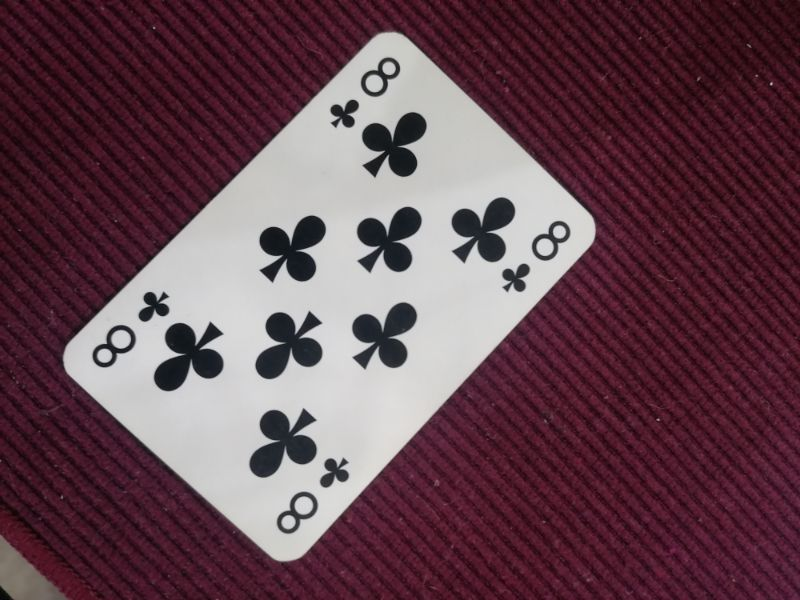8c: (88, 284, 176, 374), (272, 453, 355, 540), (498, 216, 575, 300), (327, 56, 403, 134)
